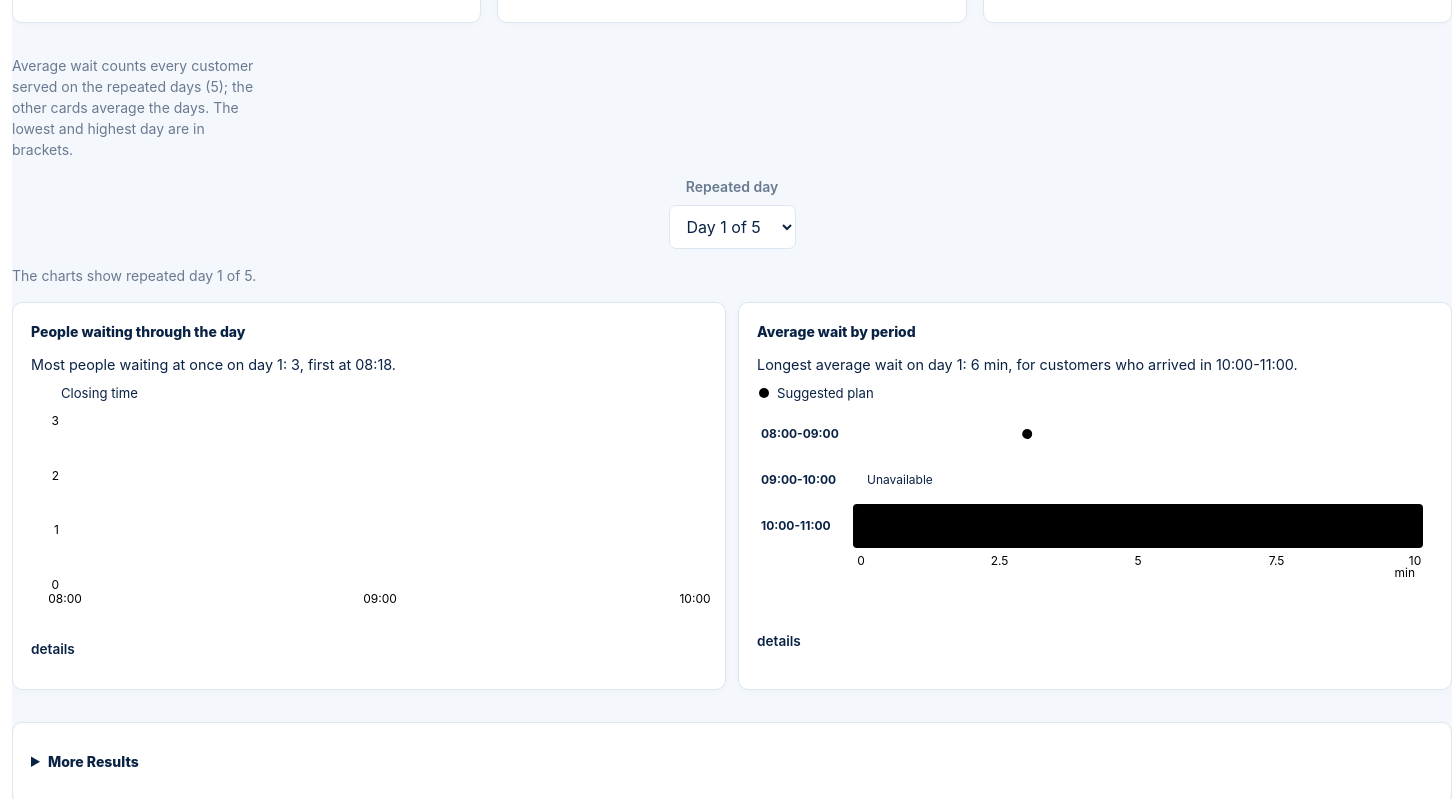
Test: full-day charts (C6) › draws average wait by period as one row per period with a labelled gap
The width and height of the screenshot is (1452, 799).
(page scrolled)
Expected: the element with test id "row-chart-row" shows "Unavailable", [867,472,933,487]
Expected: the text with test id "fullday-period-take" reads "Longest average wait on day 1: 6 min, for customers who arrived in 10:00-11:00.", [757,356,1298,373]
Click the element with test id "row-chart-row" showing "08:00-09:00" at (1095, 434), box [757,411,1433,457]
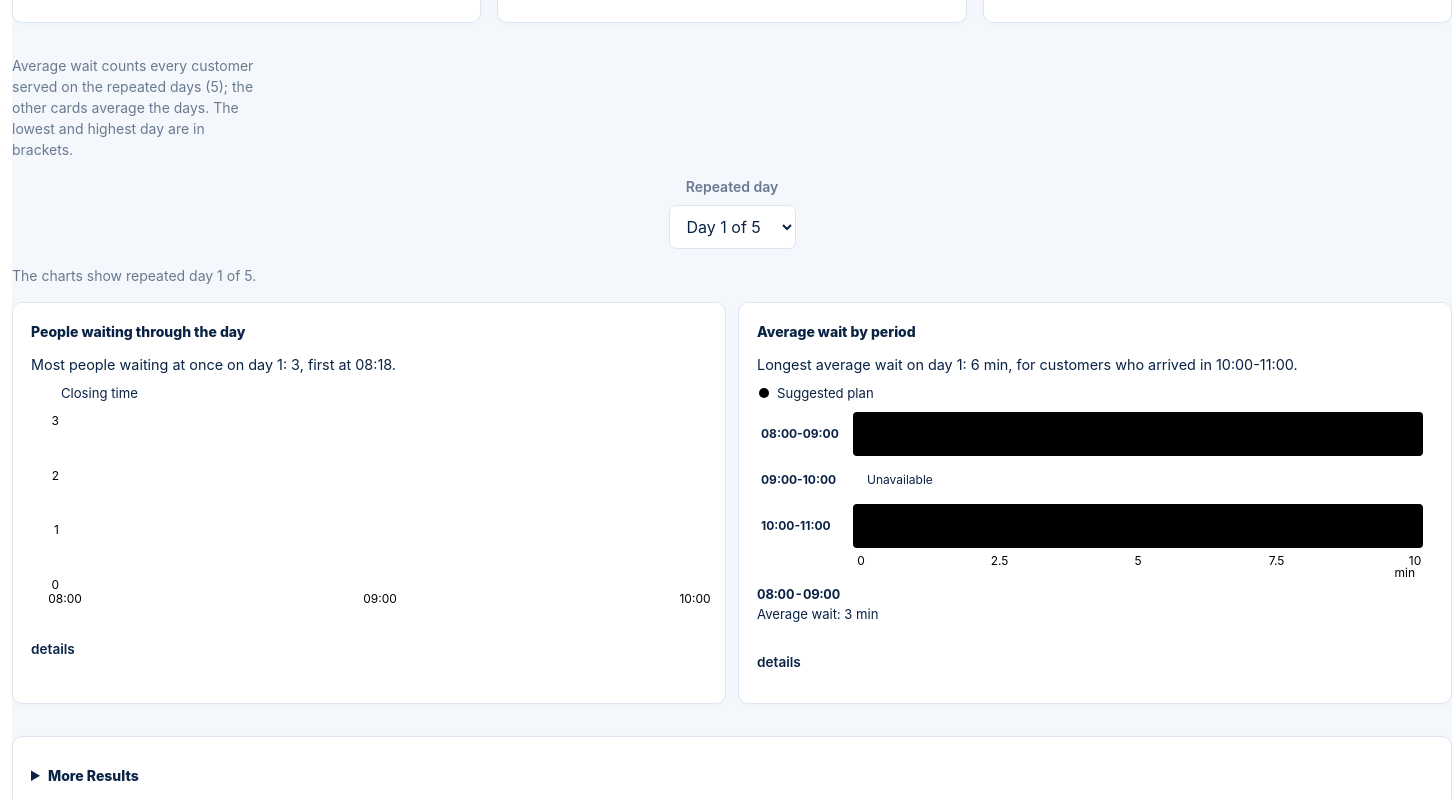
Expected: the text "Customers are counted in the period they arrived in; the average is over those who started service." below "Average wait: 3 min" is shown, [757,654,801,670]
Expected: the element with test id "row-chart-readout" reads "08:00-09:00 Average wait: 3 min", [757,586,878,622]
